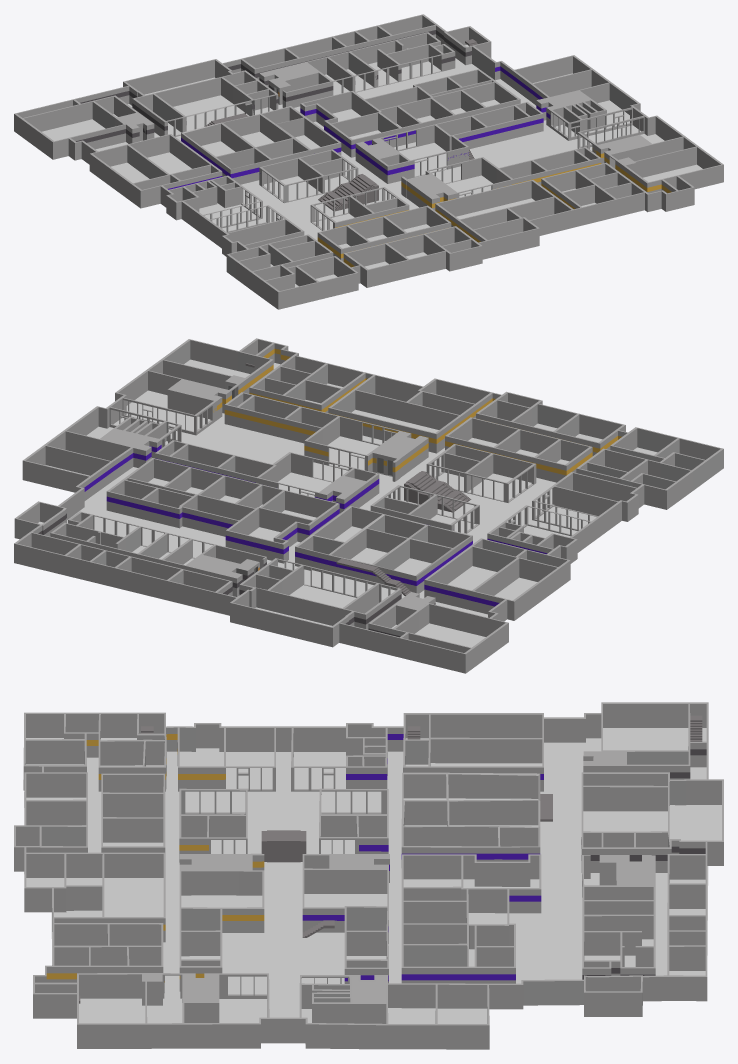
Rendered from 1stFloorModel.glb.
3 views of the same model, one above another, from view 1: azimuth 30°, elevation 25°; view 2: azimuth 150°, elevation 25°; view 3: azimuth 270°, elevation 25° (orthographic). The views are drawn at different scales.
Parts seen in each view (by area): view 1: 1st floor walls, floor, Cube.007; view 2: 1st floor walls, floor, Cube.007, Cube.010; view 3: 1st floor walls, floor, Cube.007.
Boxes of the visible parts, x1,y1,x2,y2 form: 1st floor walls: [14, 14, 723, 309]; floor: [42, 44, 702, 293]; Cube.007: [318, 174, 378, 211]; 1st floor walls: [14, 338, 723, 673]; floor: [38, 359, 657, 647]; Cube.007: [404, 471, 471, 512]; Cube.010: [336, 558, 411, 595]; 1st floor walls: [14, 702, 723, 1049]; floor: [23, 728, 721, 1044]; Cube.007: [261, 830, 306, 862].
Size of the model in its own units: 129 by 4.82 by 120.
